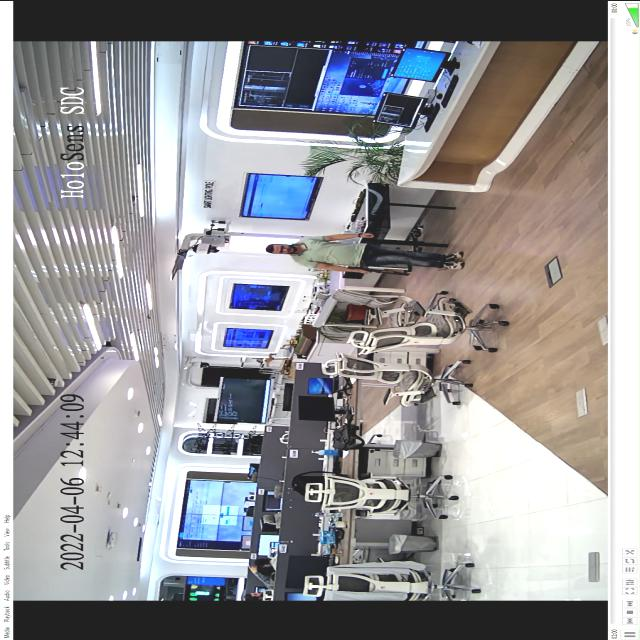long weapon: (340, 264, 414, 278)
